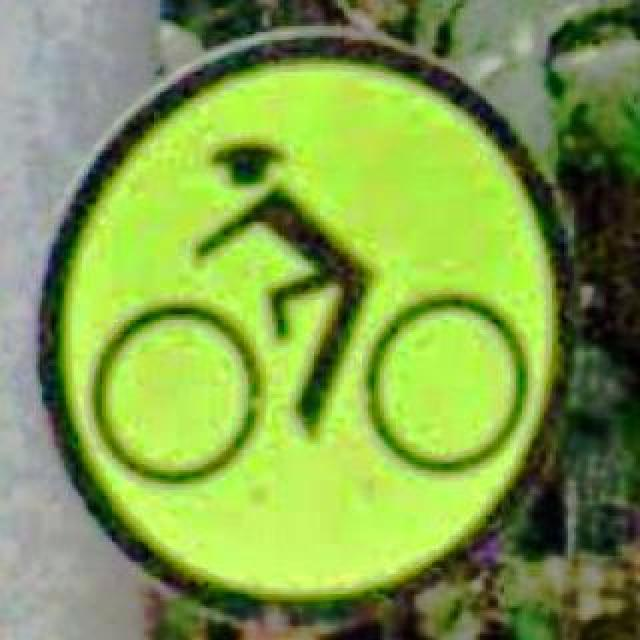bike lane: (36, 26, 574, 622)
